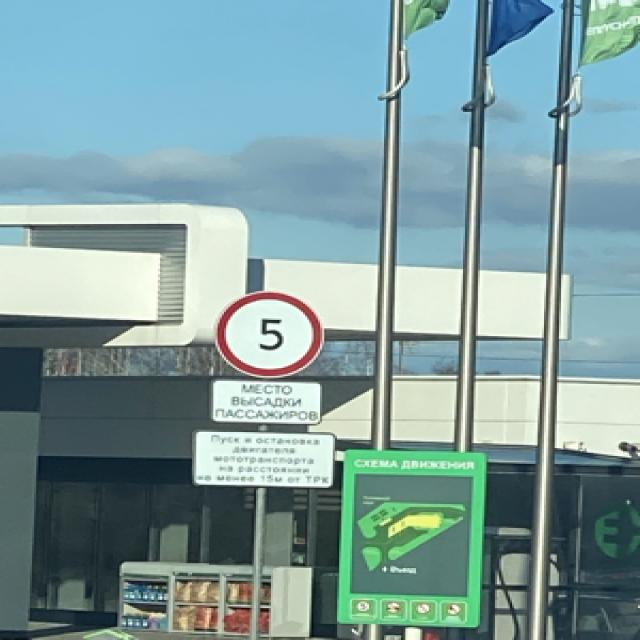speedlimit: (213, 290, 322, 374)
